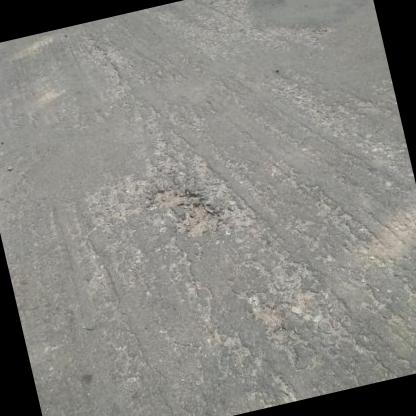pothole: (142, 174, 226, 248)
